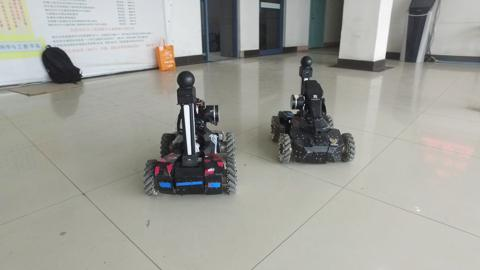chariot: (144, 71, 240, 199), (266, 53, 359, 167)
